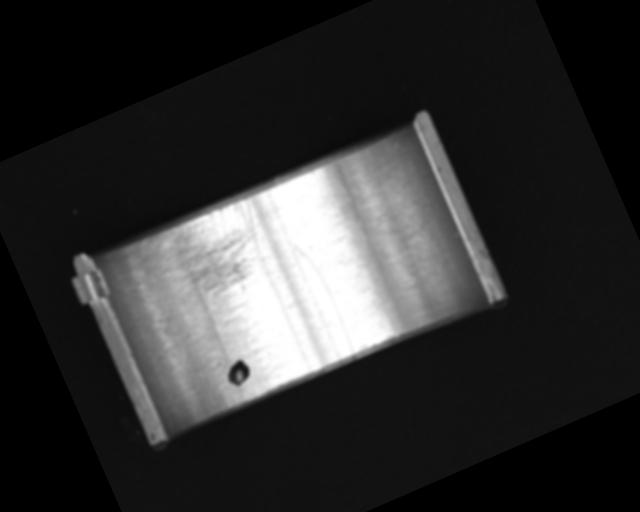blot: (220, 355, 256, 390)
nick: (291, 237, 359, 363)
scratch: (138, 193, 283, 324)
